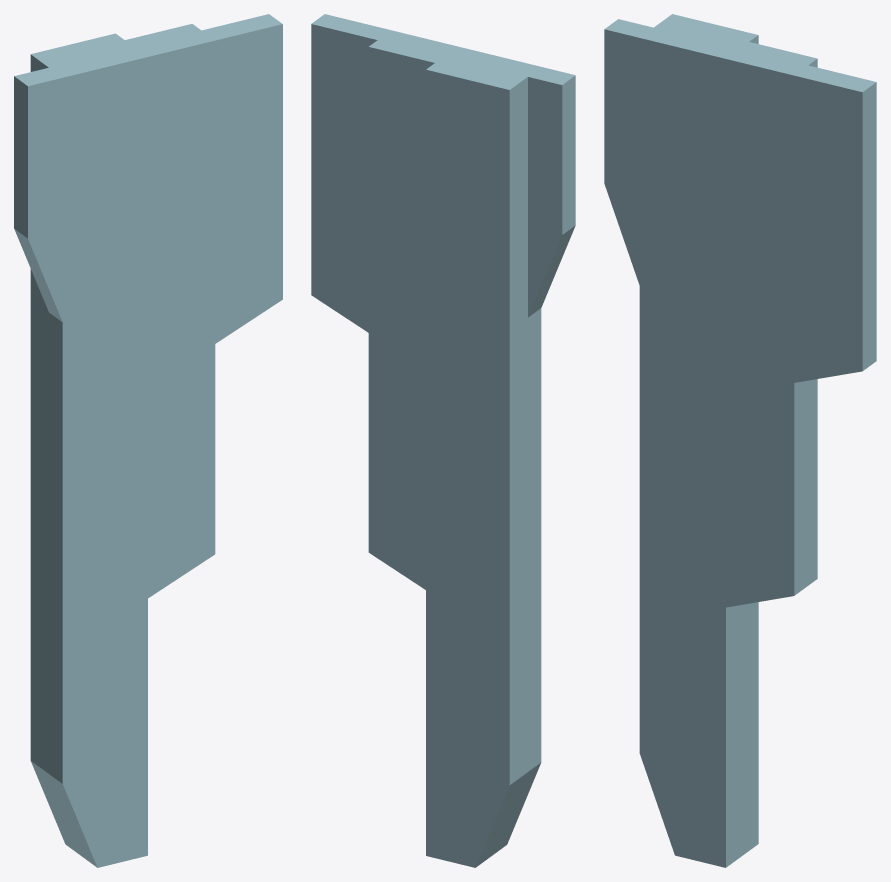
Rendered from cc0-hanging-moss-lod0.glb.
3 renders of one model, left to right at view 1: azimuth 30°, elevation 25°; view 2: azimuth 150°, elevation 25°; view 3: azimuth 330°, elevation 25°, orthographic. The views are drawn at different scales.
Visible parts, largest first — view 1: part_0; view 2: part_0; view 3: part_0.
Part boxes in pixels (x1=…): part_0: x1=14, y1=14, x2=282, y2=867; part_0: x1=311, y1=14, x2=575, y2=867; part_0: x1=604, y1=14, x2=876, y2=867.
Size of the model in its own units: 0.1598 by 0.4785 by 0.035.
